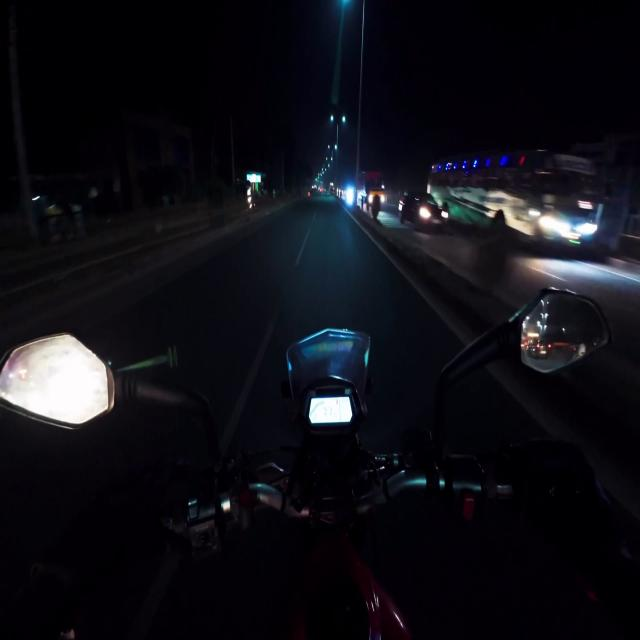car: (399, 192, 448, 224)
motorcycle: (0, 290, 632, 639)
